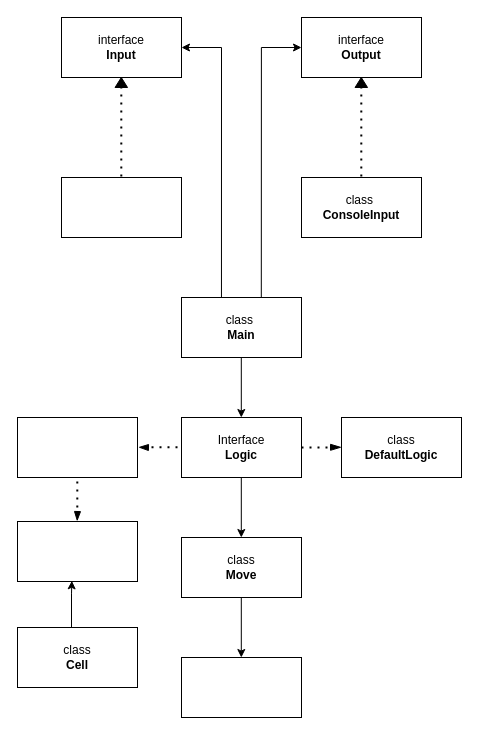
Image size: 479x735. Some labels were removed from this diagram. The shapes that lost their labels are listed below. From the top down, each one's centre as x and y in pixels, then its label:
(121,207): class UserInput
(77,447): class Field
(77,551): class Board
(241,687): class Figure
